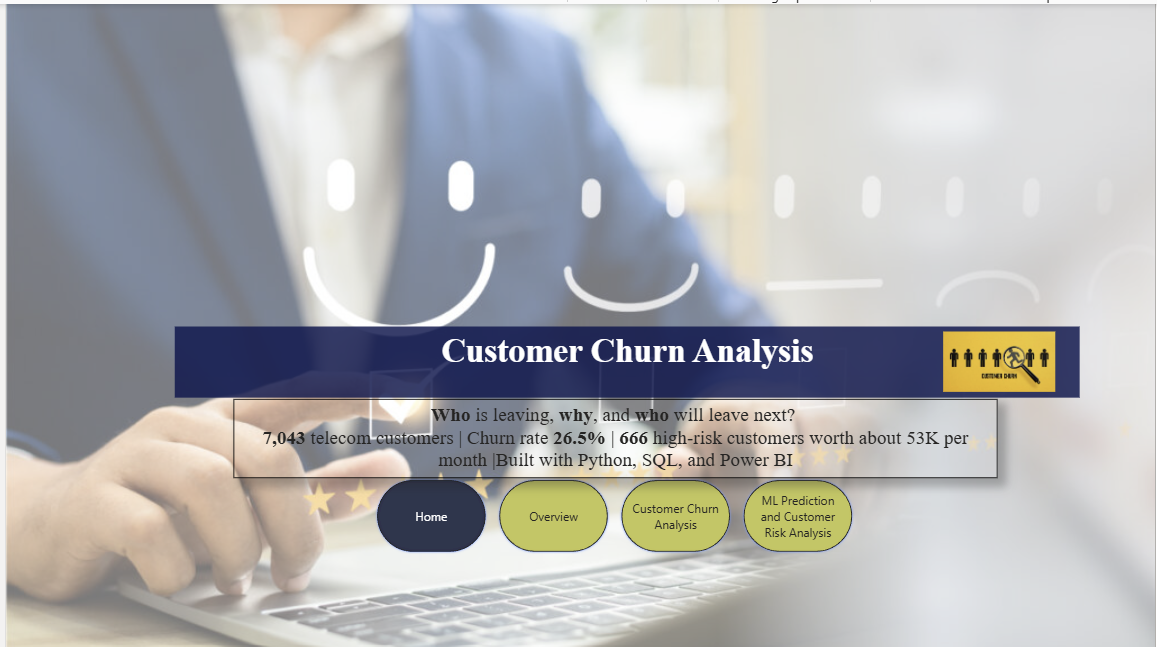

This screenshot's page, from the dashboard's own definition file:
{"tool":"powerbi","page":{"name":"Home","canvas":[1280,720],"ordinal":0},"visuals":[{"type":"textbox","box":[188,359.5,1007.2,79.6],"z":0},{"type":"pageNavigator","box":[410.3,526.9,537.9,85.1],"z":1000},{"type":"image","box":[1040.1,365,129,67.2],"z":2000},{"type":"textbox","box":[253.9,439.1,850.8,87.8],"z":2001}]}

Visuals, with their boxes in screenshot pixels (x1, y1, x2, y2), scaled from the page's 1280x720 canvas onto the 1157x647 screenshot:
textbox: rect(170, 323, 1080, 395)
pageNavigator: rect(371, 473, 857, 550)
image: rect(940, 328, 1057, 388)
textbox: rect(230, 395, 999, 473)
